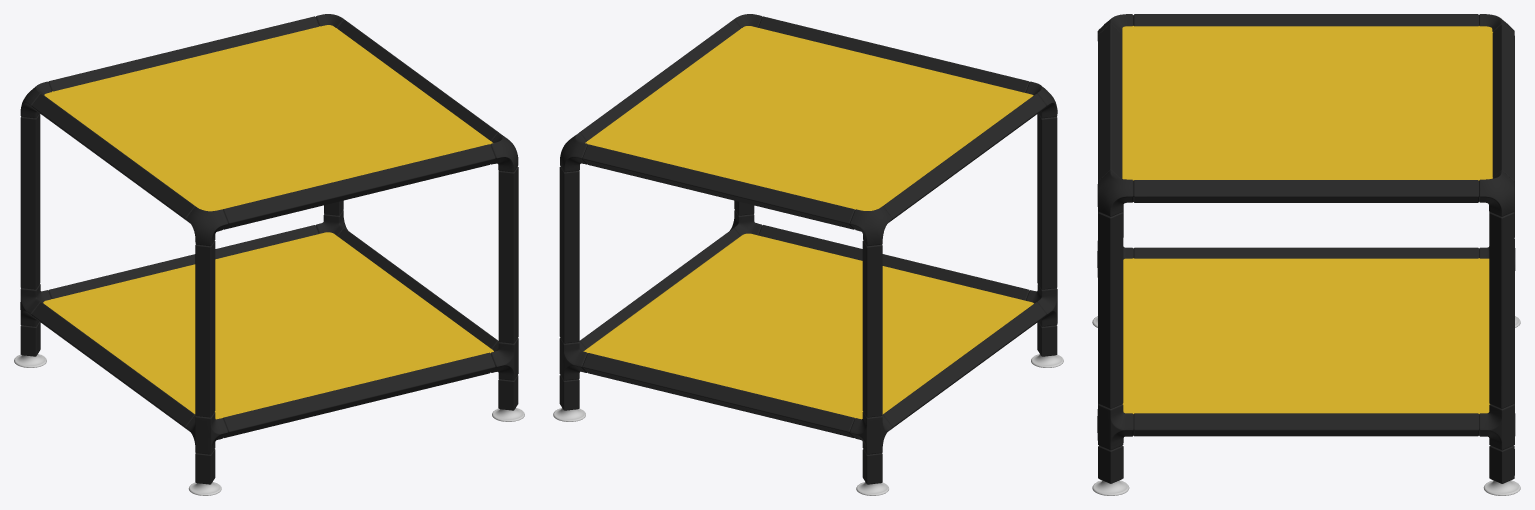
3 renders of one model, left to right at view 1: azimuth 30°, elevation 25°; view 2: azimuth 150°, elevation 25°; view 3: azimuth 270°, elevation 25°, orthographic. The views are drawn at different scales.
Parts seen in each view (by area): view 1: 374x374x229; view 2: 374x374x229; view 3: 374x374x229.
Boxes of the visible parts, x1,y1,x2,y2 form: 374x374x229: (14, 14, 524, 495); 374x374x229: (553, 14, 1063, 495); 374x374x229: (1092, 14, 1520, 495).
Size of the model in its own units: 0.4639 by 0.3682 by 0.4632.
